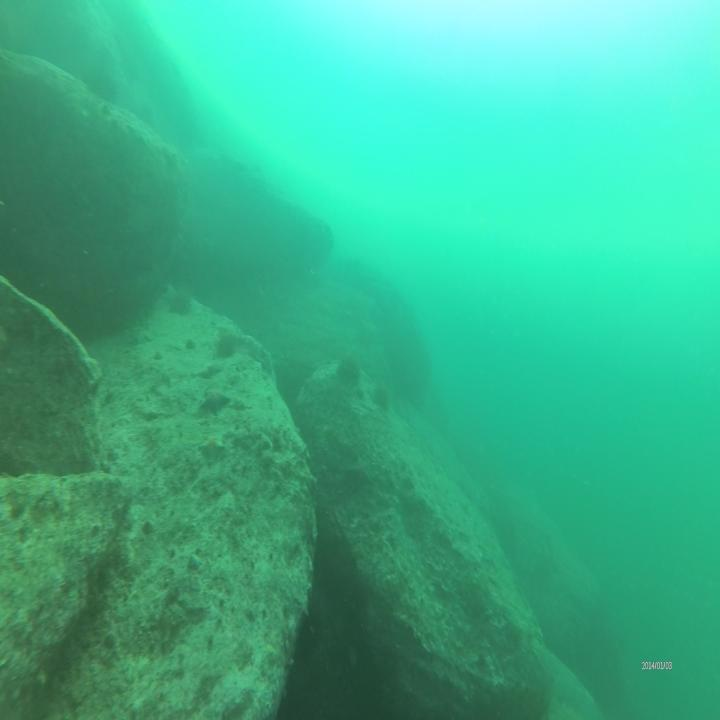echinus: (166, 277, 195, 316), (335, 354, 363, 386), (216, 330, 240, 360), (372, 382, 391, 412)
starfish: (202, 380, 232, 419), (198, 428, 226, 464)
